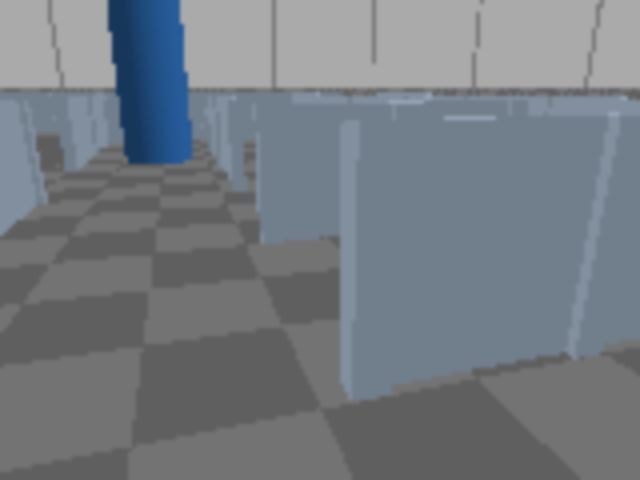obstacle: (18, 133, 67, 169)
